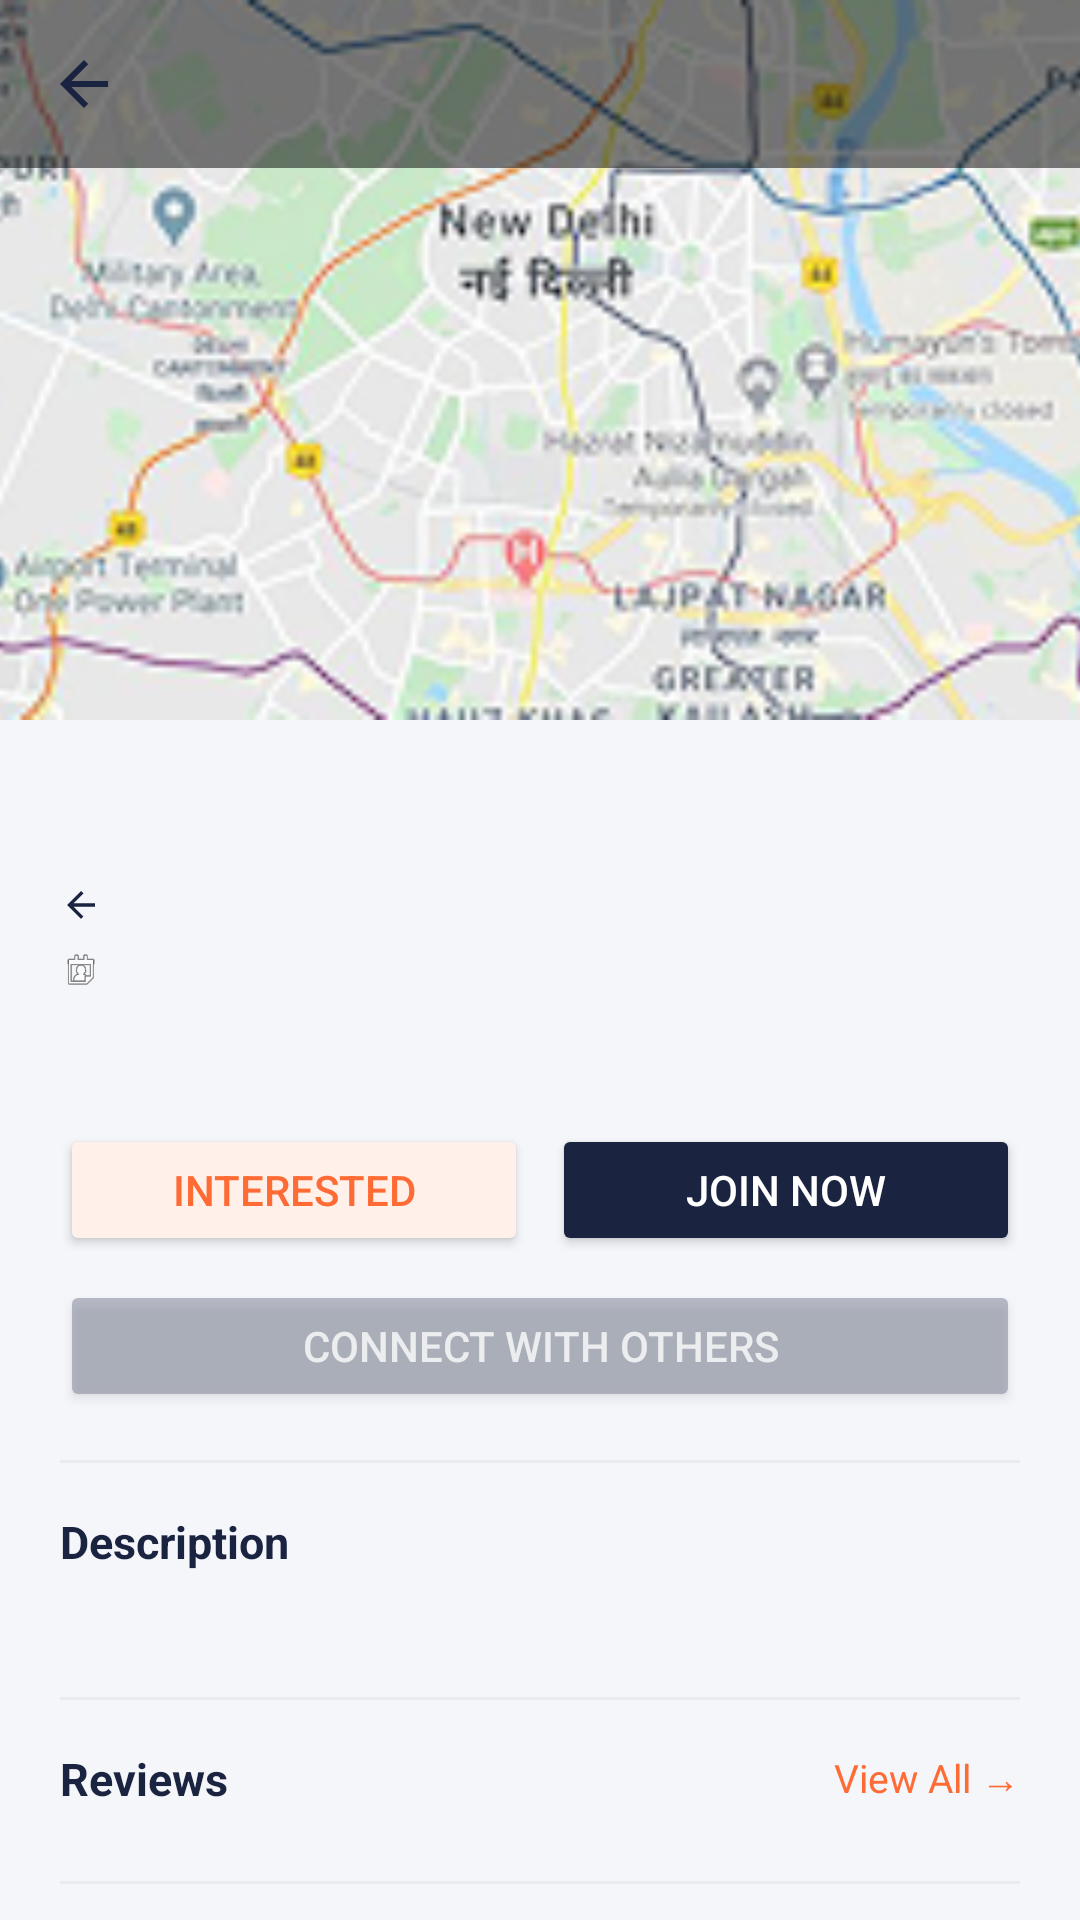

Where to tap for icons on this 1080px x 1920px app screen, as [x,y]:
Tanggal: [81,969]
